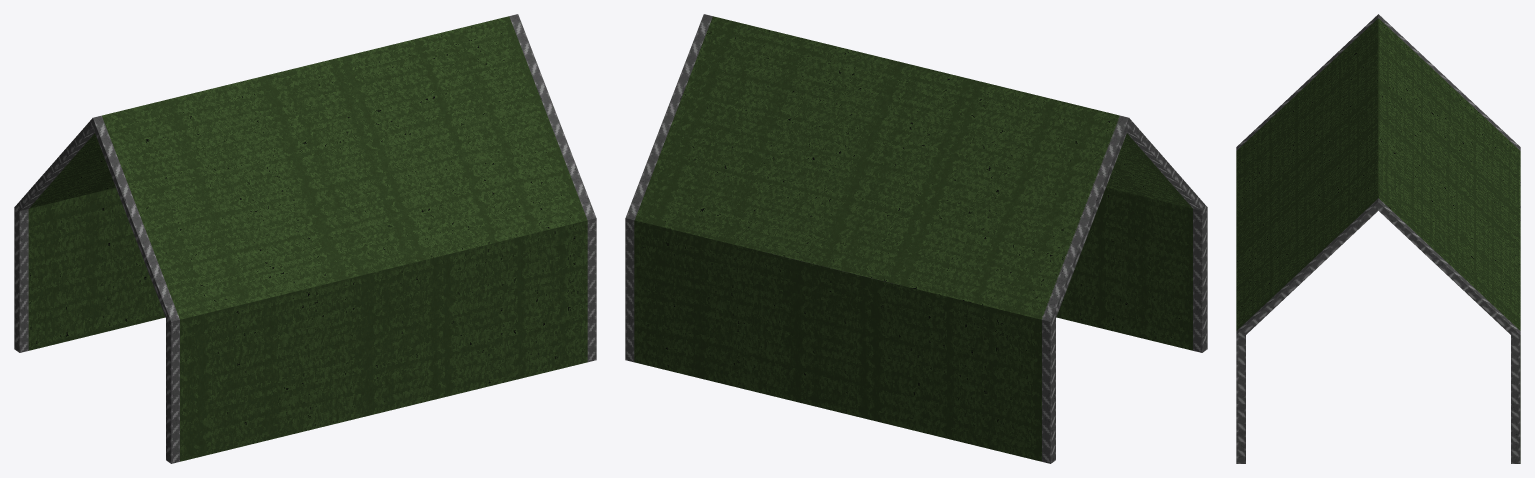
File: GreenTent.glb
3 views of the same model, side by side, from view 1: azimuth 30°, elevation 25°; view 2: azimuth 150°, elevation 25°; view 3: azimuth 270°, elevation 25° (orthographic). The views are drawn at different scales.
Visible parts, largest first — view 1: Cube.001; view 2: Cube.001; view 3: Cube.001.
Part boxes in pixels (bbox=[...]): Cube.001: bbox=[14, 14, 596, 463]; Cube.001: bbox=[625, 14, 1207, 463]; Cube.001: bbox=[1236, 14, 1520, 463].
Bounding box in the file's own units: 9.4 × 6.1 × 6.
Materials: 2 (2 with a texture image).
